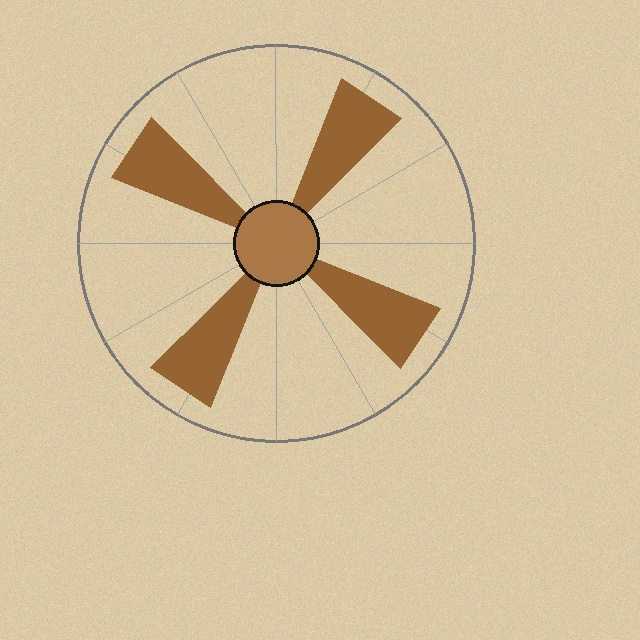fan: (73, 40, 479, 446)
